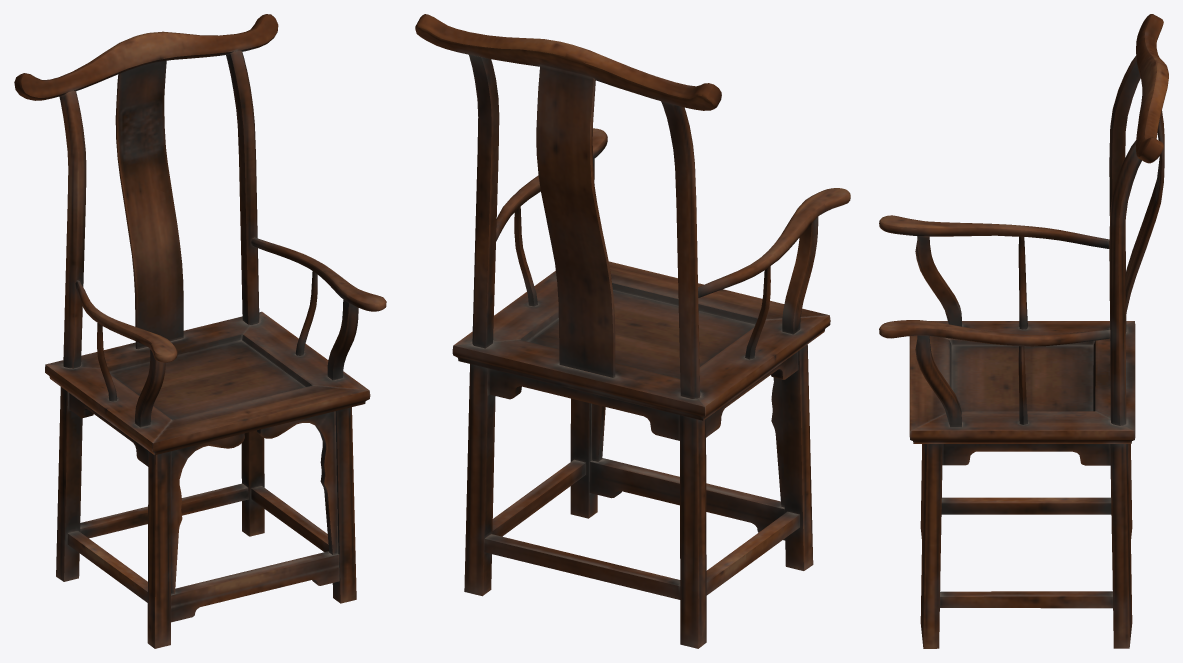
File: armchair_cn.glb
3 renders of one model, left to right at view 1: azimuth 30°, elevation 25°; view 2: azimuth 150°, elevation 25°; view 3: azimuth 270°, elevation 25°, orthographic. The views are drawn at different scales.
Parts seen in each view (by area): view 1: mesh; view 2: mesh; view 3: mesh.
Part boxes in pixels (box(x1,y1,x2,y2)): mesh: box(14, 14, 386, 648); mesh: box(415, 14, 850, 648); mesh: box(879, 14, 1168, 648).
Size of the model in its own units: 0.8483 by 1.59 by 0.7886.
Materials: 1 (1 with a texture image).
